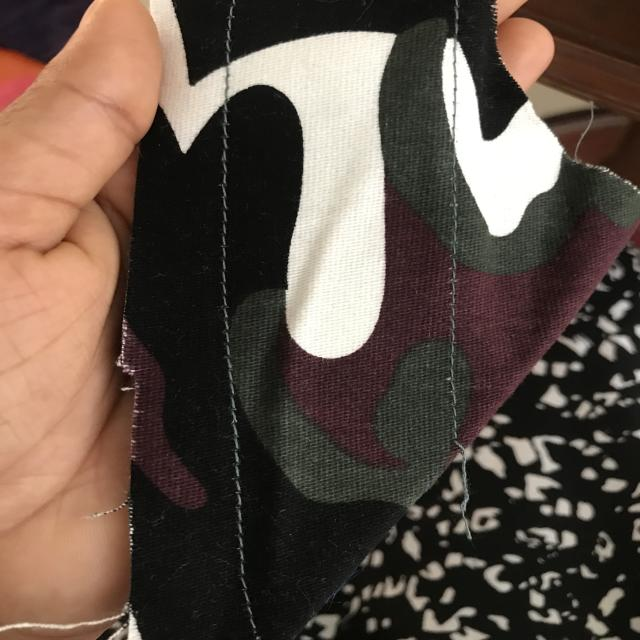good: (216, 459, 265, 560)
